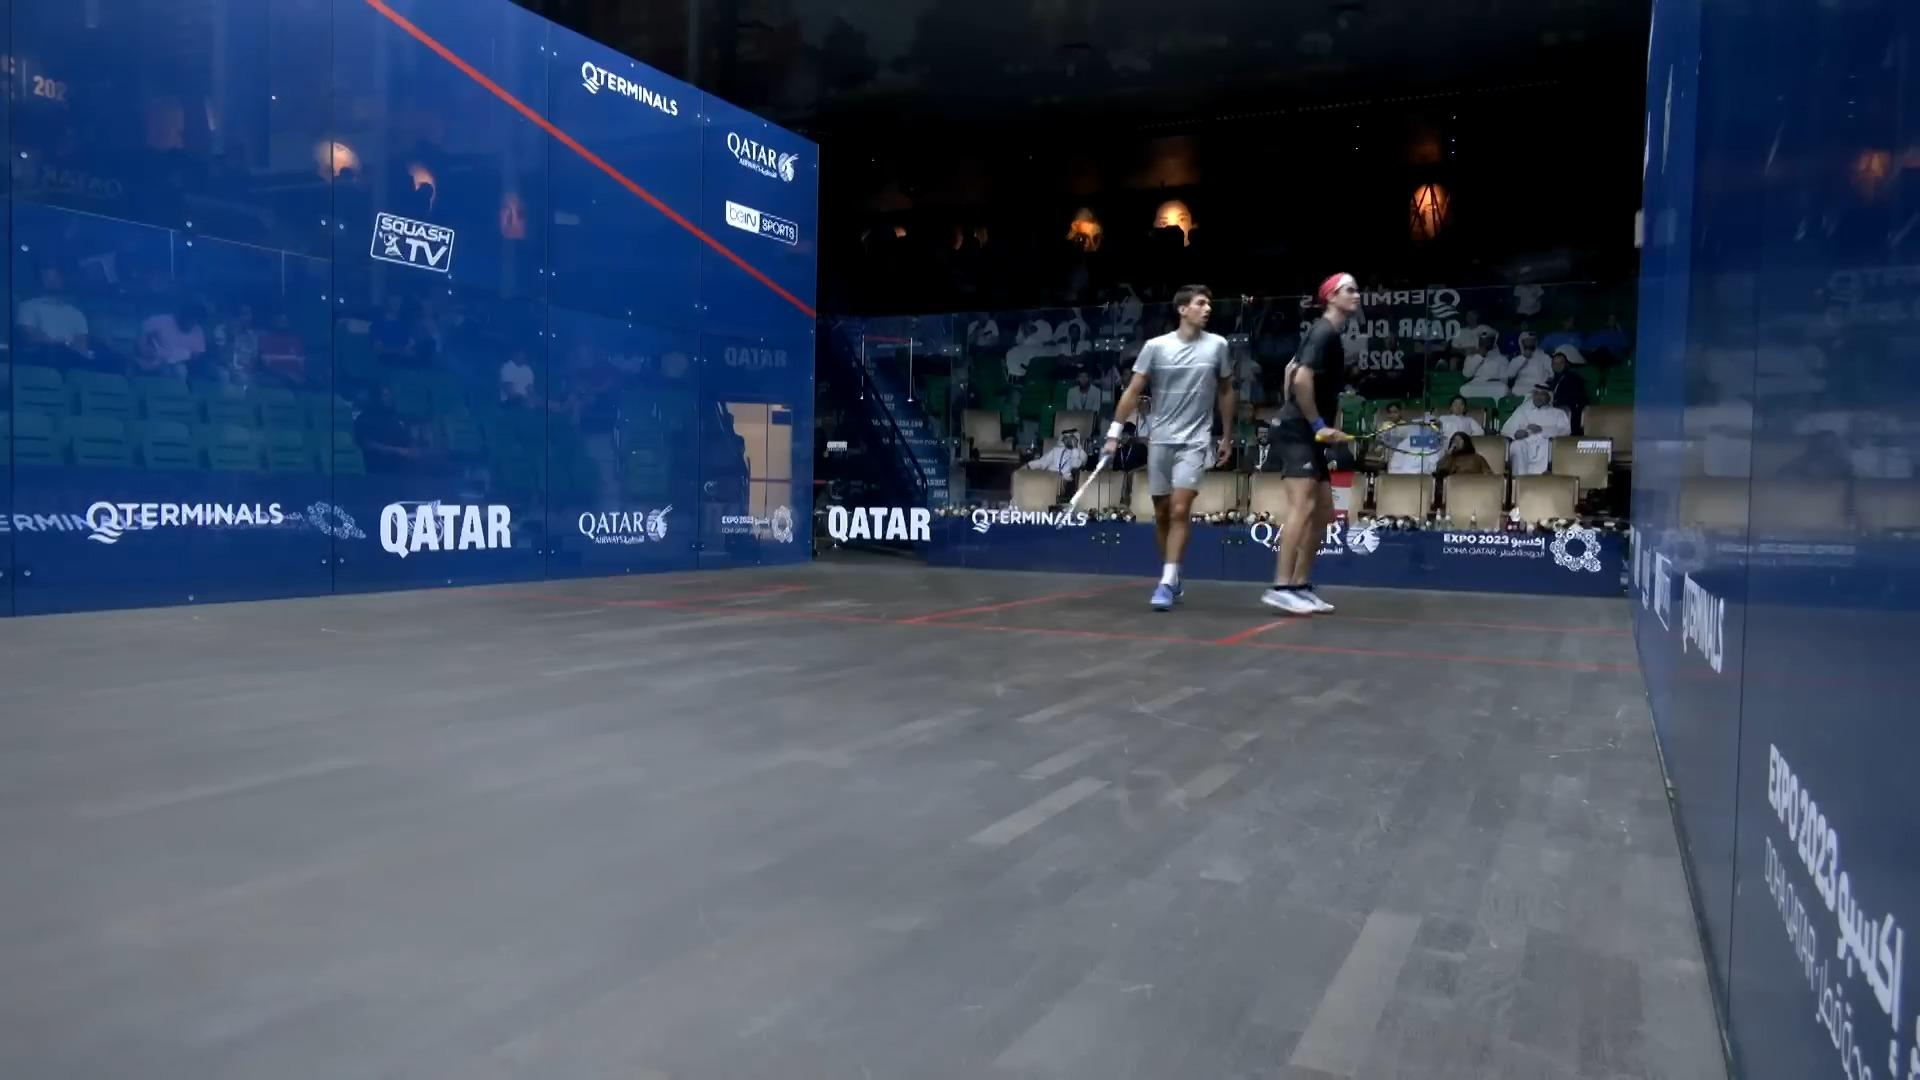Racket: (1356, 413, 1452, 467)
